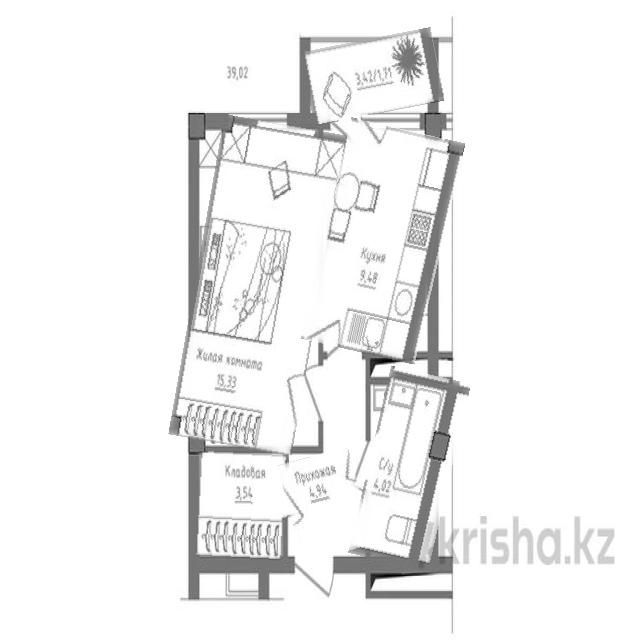bathroom: (358, 370, 461, 568)
hallway: (283, 450, 368, 559)
kitchen: (312, 122, 453, 359)
living_room: (181, 118, 334, 451)
other: (303, 33, 442, 120), (195, 452, 288, 560)
